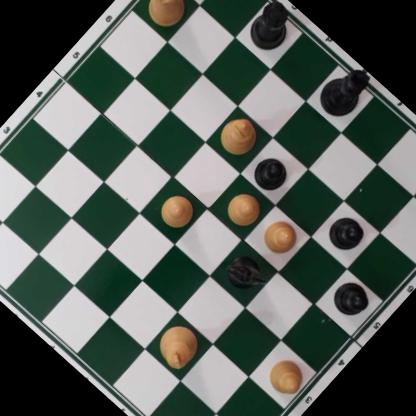black-king: (311, 57, 380, 127)
black-knight: (221, 248, 272, 299)
black-pawn: (326, 274, 375, 323), (323, 208, 371, 257), (248, 149, 295, 196)
black-rook: (242, 0, 302, 56)
white-bishop: (212, 107, 268, 163)
white-king: (150, 316, 209, 375)
white-pawn: (260, 351, 312, 402), (219, 185, 267, 233), (153, 186, 201, 234), (257, 213, 303, 259)
white-rook: (135, 0, 196, 32)
